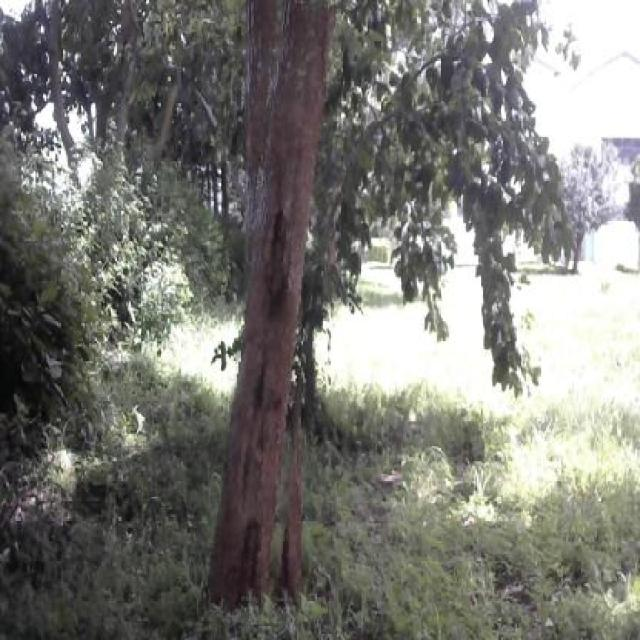tree trunk: (222, 1, 332, 625)
